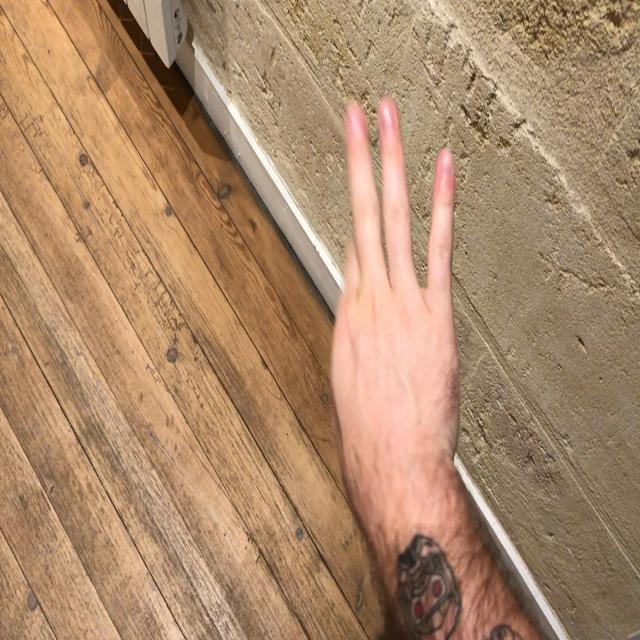no-gloves: (326, 92, 465, 485)
